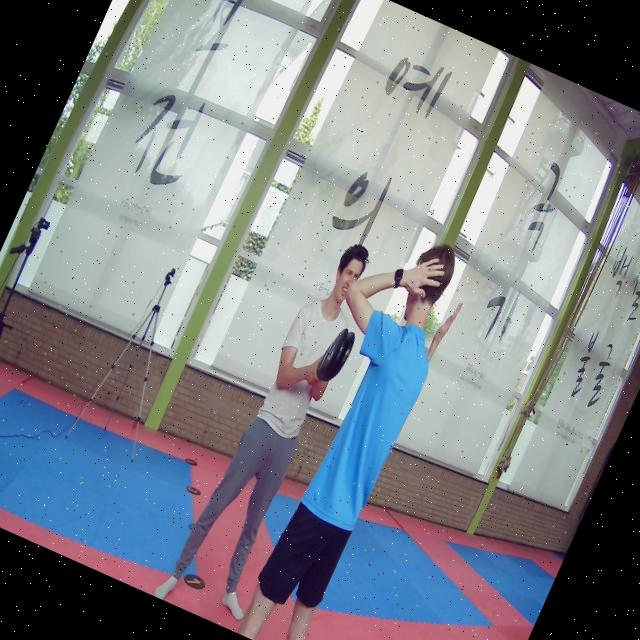paddle: (316, 326, 356, 381)
